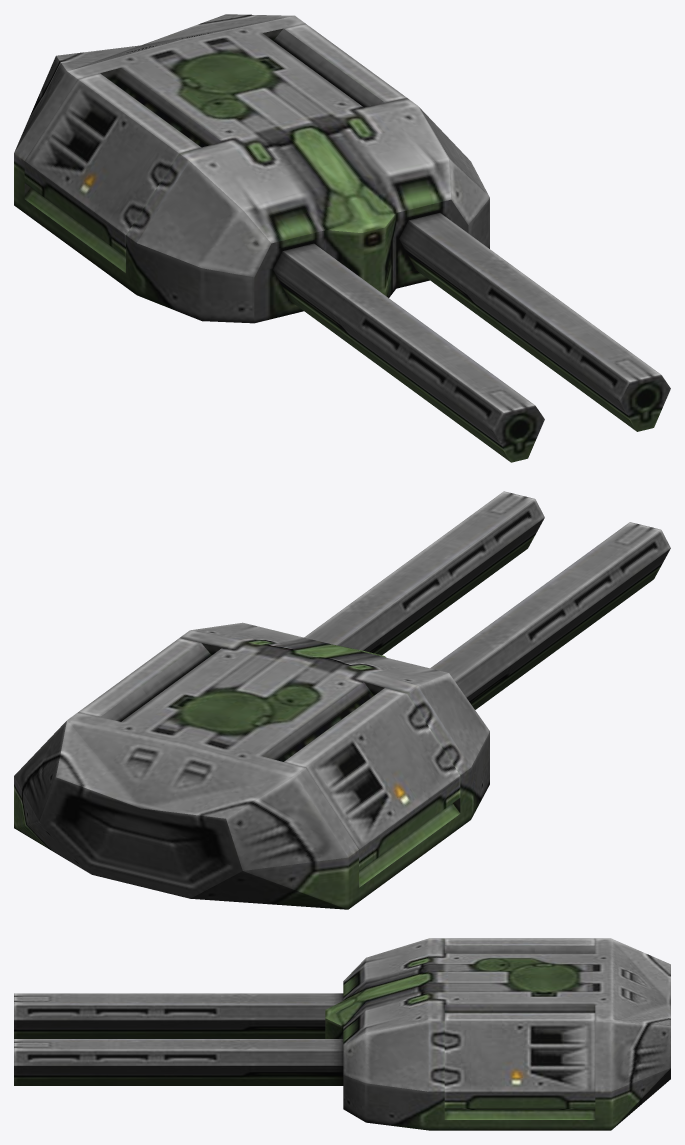
Rendered from term20.gltf.
The picture shows the model from 3 angles, top to bottom: view 1: azimuth 30°, elevation 25°; view 2: azimuth 150°, elevation 25°; view 3: azimuth 270°, elevation 25°; orthographic projection. The views are drawn at different scales.
Visible parts, largest first — view 1: turret; view 2: turret; view 3: turret.
Part boxes in pixels (x1=…): turret: x1=14, y1=14, x2=670, y2=462; turret: x1=14, y1=491, x2=670, y2=909; turret: x1=14, y1=938, x2=670, y2=1130.
Size of the model in its own units: 2.4 by 0.8615 by 5.5.
